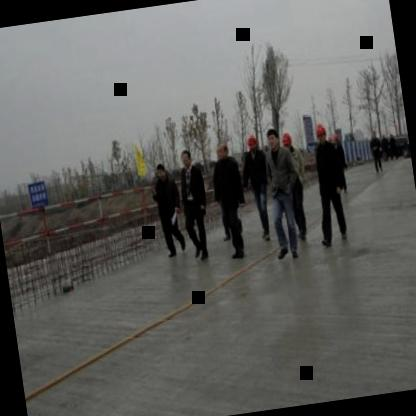head: (262, 120, 283, 152), (151, 155, 169, 184), (213, 138, 233, 164), (178, 147, 194, 170)
helmet: (278, 126, 298, 153), (313, 116, 330, 146), (245, 132, 260, 154)
